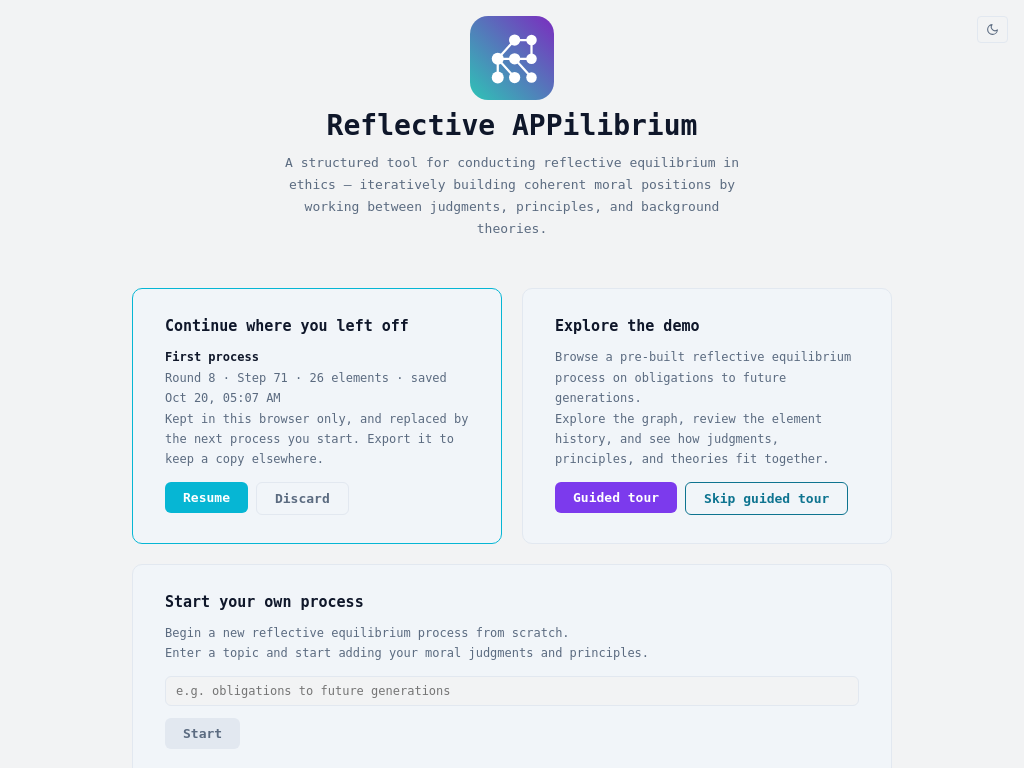
starting a new process › asks first when a draft is on offer, naming both processes
The width and height of the screenshot is (1024, 768).
Type "Second process" into the field named "Topic of your reflective equilibrium process" at (512, 690), box [165, 676, 859, 706]
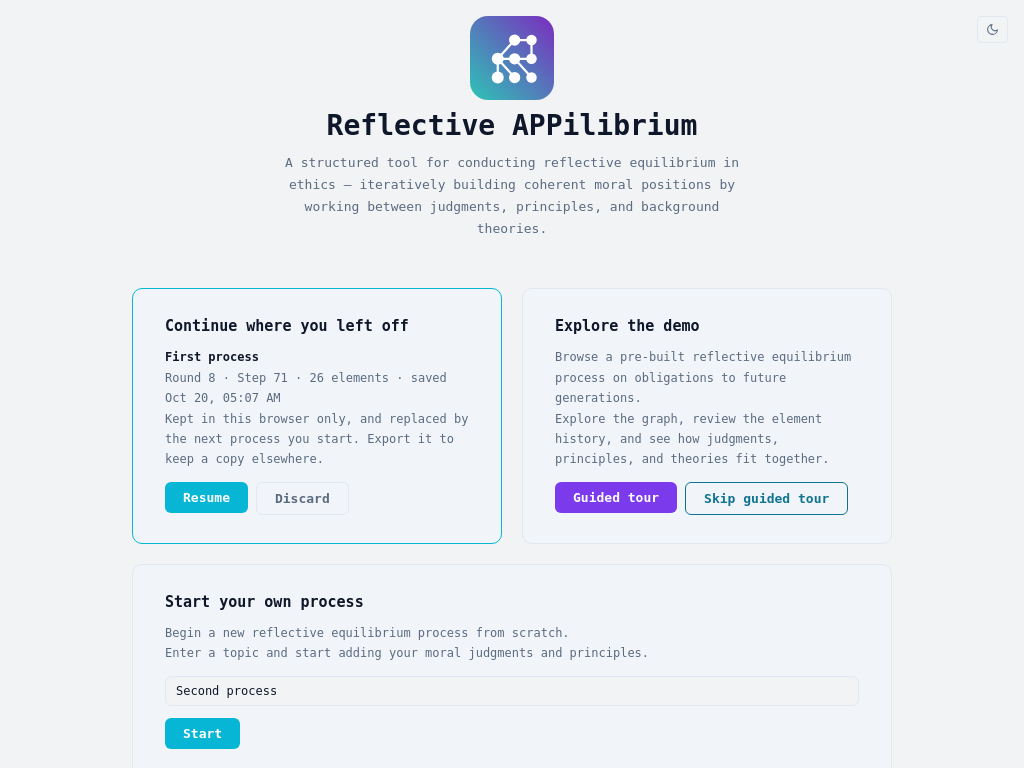
Click the button "Start" at (203, 733), box [165, 718, 240, 748]
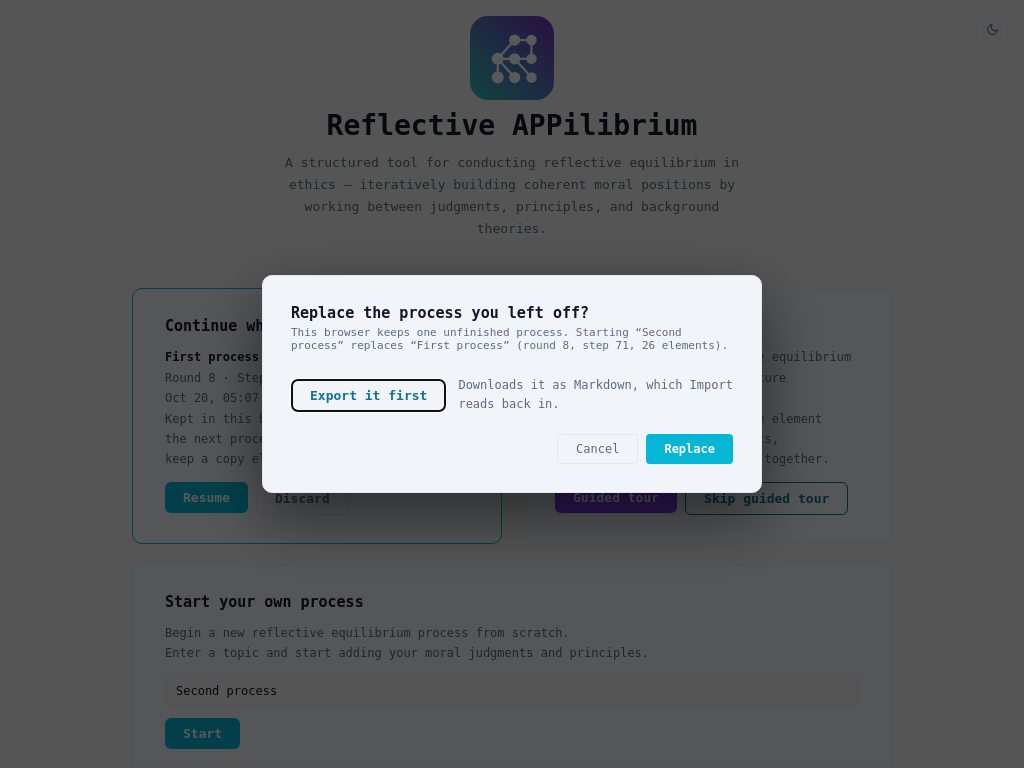
Result: the dialog shows "Second process" at [291, 326, 728, 352]
Result: the dialog shows "First process" at [291, 326, 728, 352]
